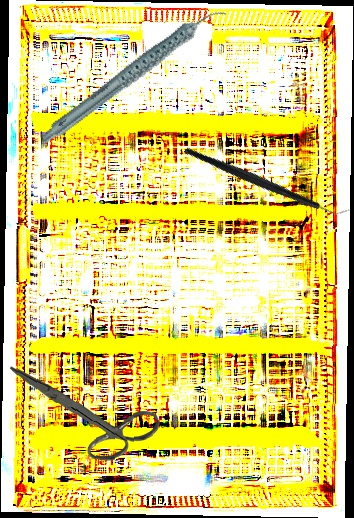Chopper: (182, 98, 352, 264)
Handpiece: (22, 5, 247, 147)
Iris Scissors: (9, 358, 162, 466)
